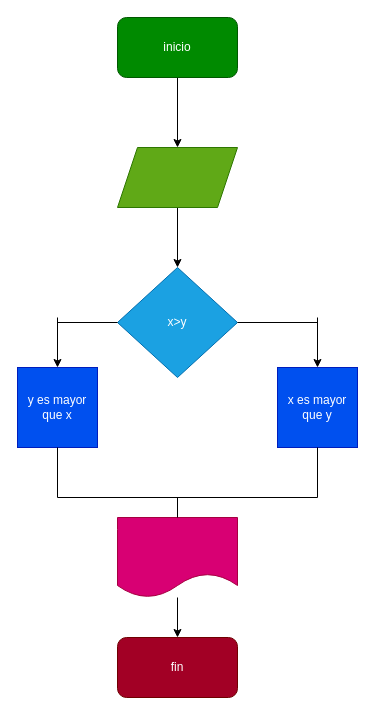
Image size: 375x715. Some labels were removed from this diagram. The box of each missing label's shape, as (x1, y1, x2, y2) in pixels:
MAYOR: (116, 516, 238, 598)
x,y: (116, 146, 238, 208)
